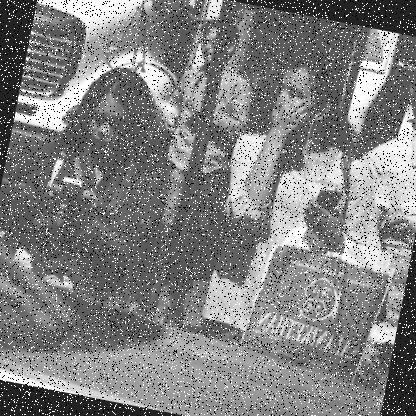Car: (0, 191, 408, 415)
